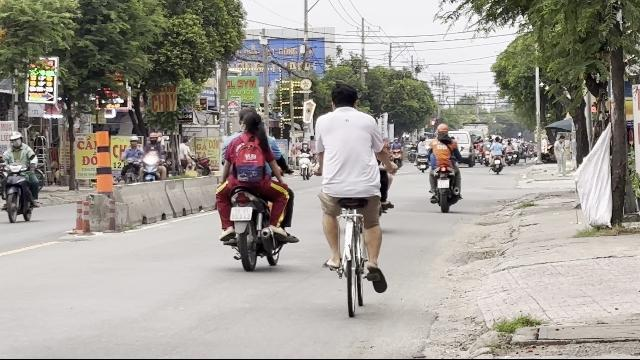licenseplate: (230, 207, 252, 221)
motorcyclist: (212, 106, 298, 270)
nohelmet: (239, 110, 263, 134)
